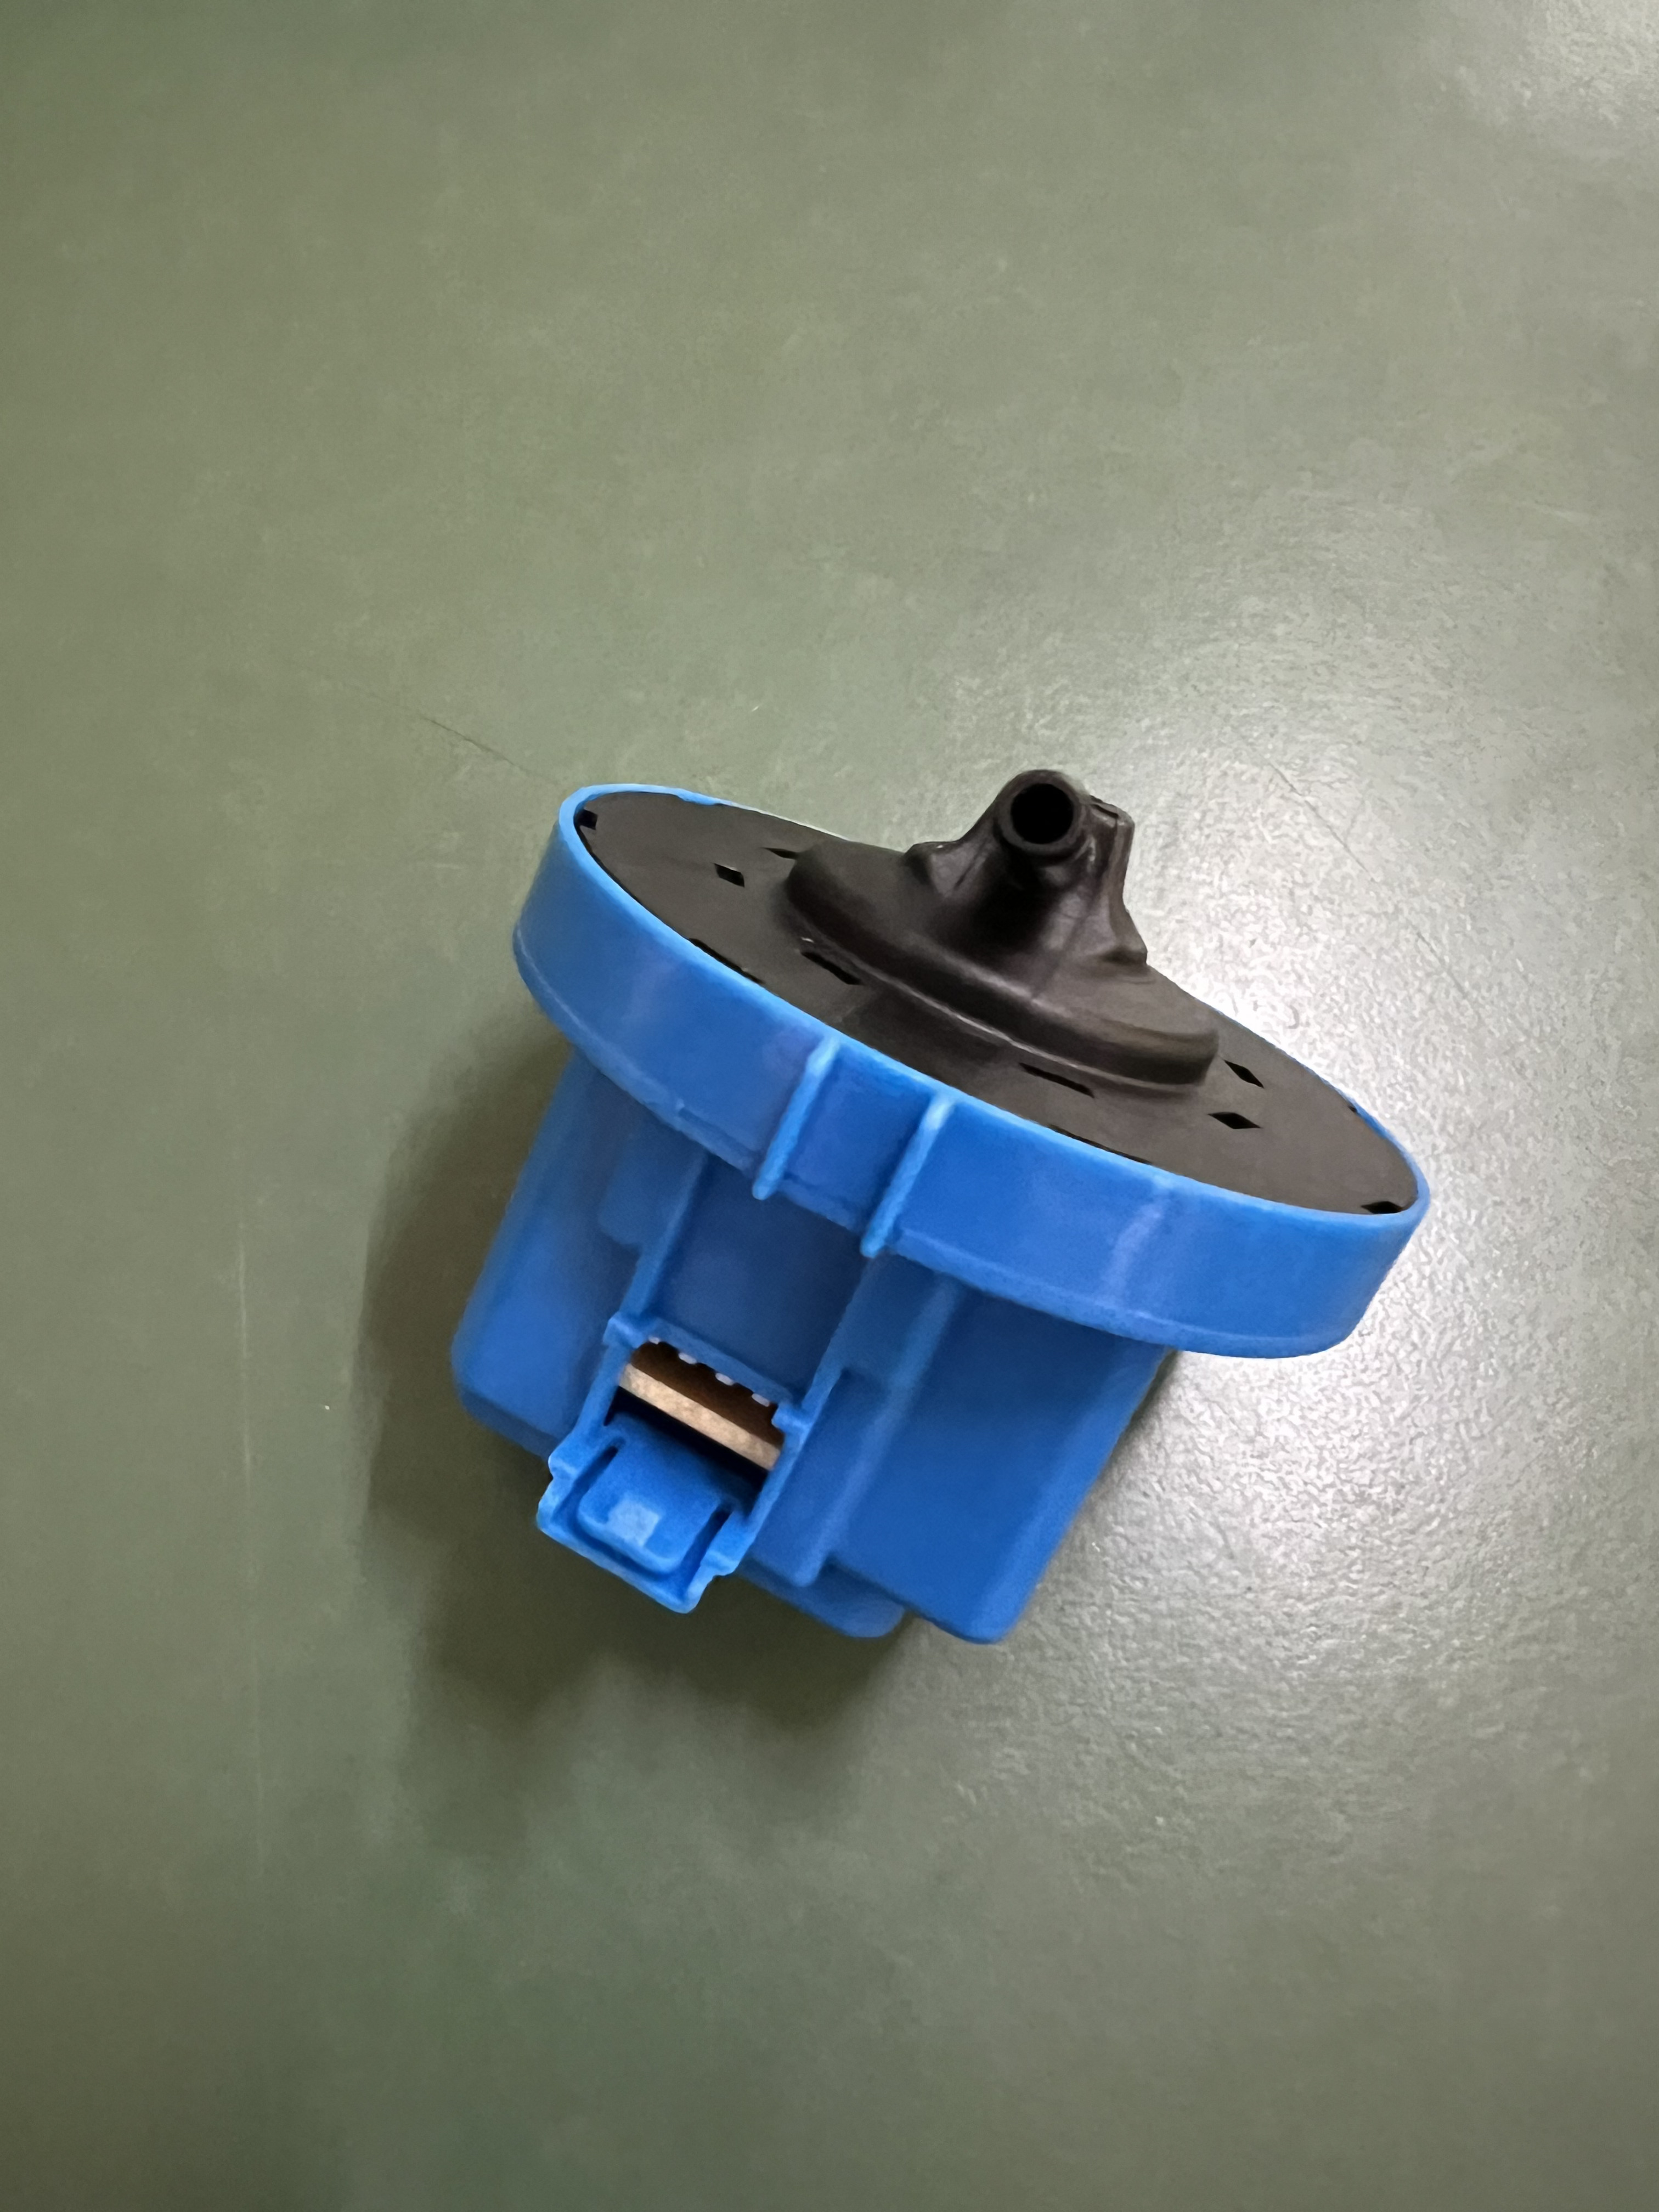voltas_beko_pressure_switch: (373, 671, 1446, 1714)
